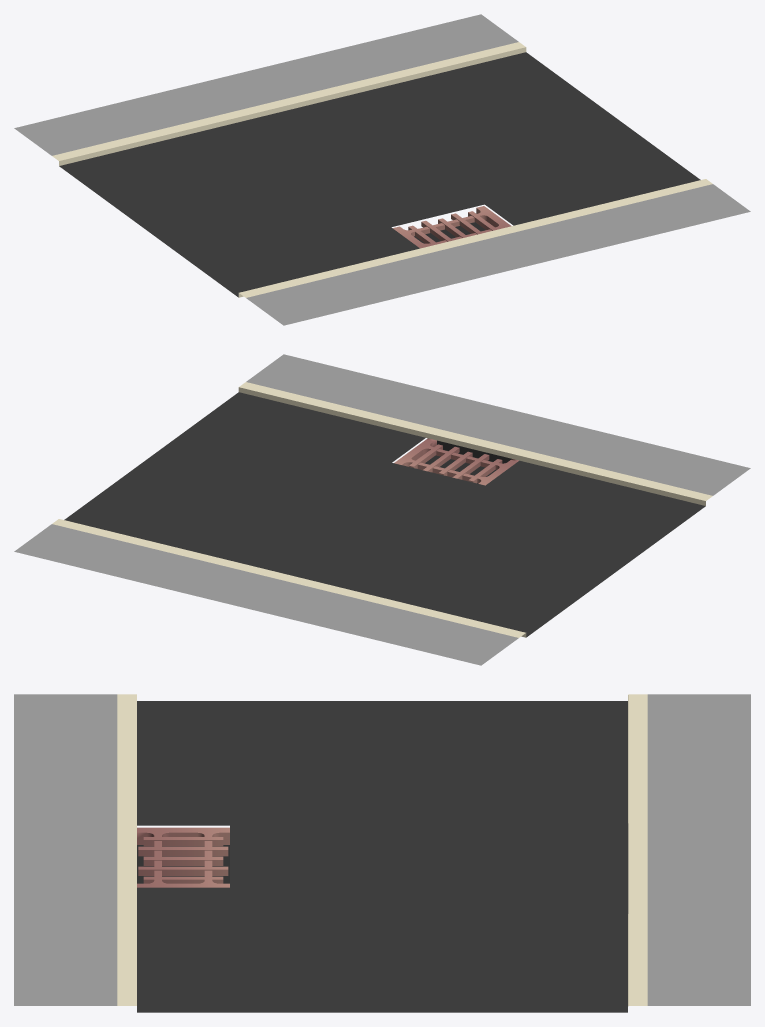
The model's file is Strasse6.glb.
3 views of the same model, one above another, from view 1: azimuth 30°, elevation 25°; view 2: azimuth 150°, elevation 25°; view 3: azimuth 270°, elevation 25° (orthographic). The views are drawn at different scales.
Parts seen in each view (by area): view 1: Strasse6; view 2: Strasse6; view 3: Strasse6.
Boxes of the visible parts, box(x1,y1,x2,y2) form: Strasse6: box(14, 14, 750, 325); Strasse6: box(14, 354, 750, 665); Strasse6: box(14, 694, 750, 1012).
Bounding box in the file's own units: 6 × 0.184 × 6.
Materials: 2 (2 with a texture image).
